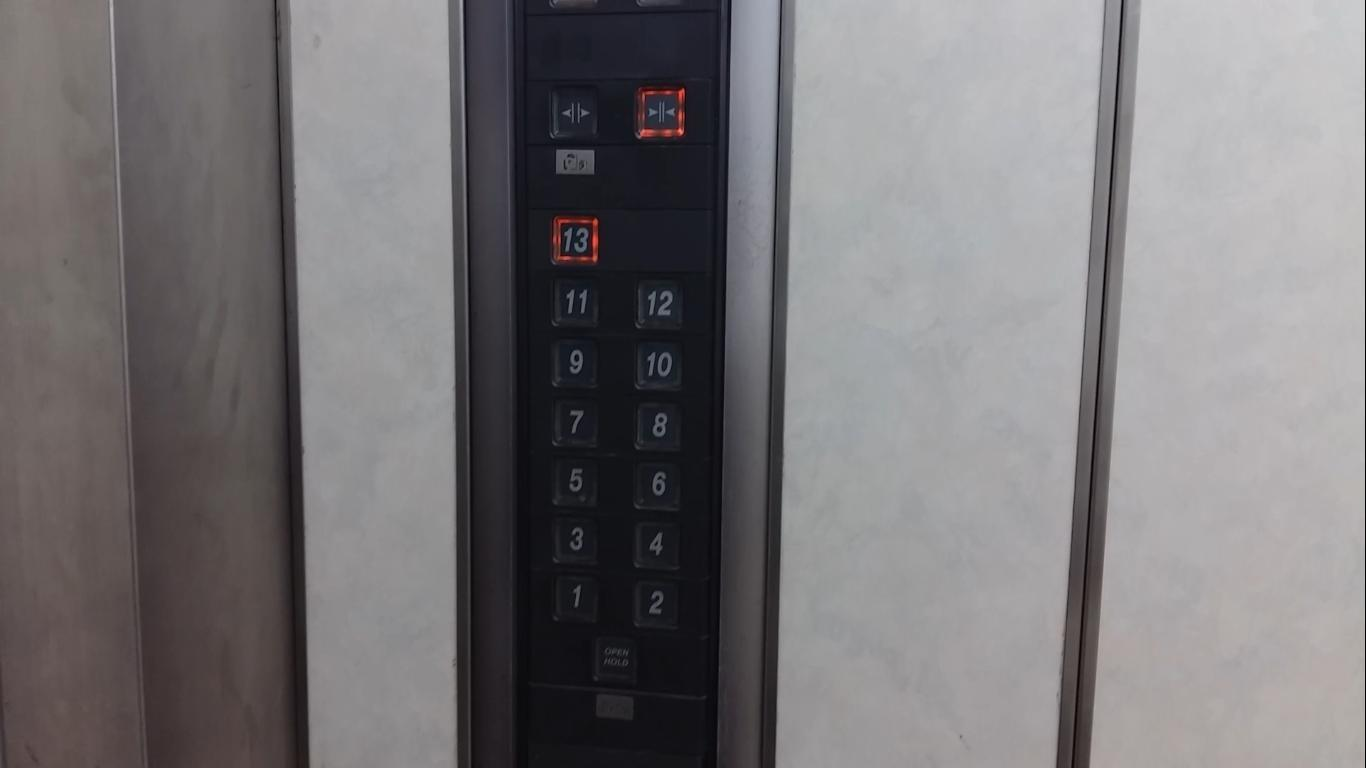1: (549, 570, 602, 625)
10: (631, 336, 685, 391)
11: (548, 271, 602, 326)
12: (630, 274, 684, 329)
13: (547, 211, 601, 266)
2: (630, 576, 682, 629)
3: (549, 510, 603, 565)
4: (631, 518, 684, 571)
5: (548, 453, 602, 508)
6: (630, 456, 684, 511)
7: (546, 391, 600, 446)
8: (630, 398, 684, 453)
9: (547, 333, 601, 388)
close: (631, 81, 688, 140)
open: (543, 82, 604, 143)
unknown: (589, 630, 641, 683)
